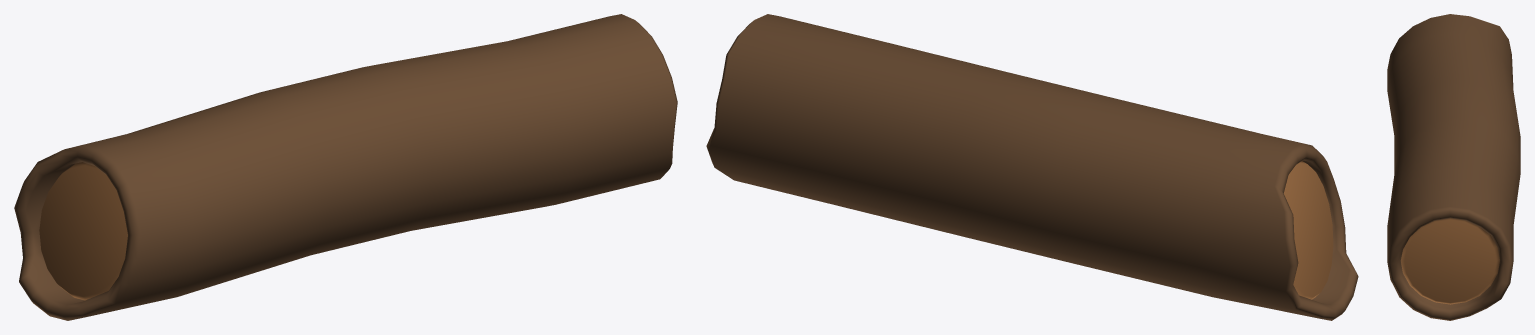
The model's file is Log_Seat.fbx.
The picture shows the model from 3 angles, left to right: view 1: azimuth 30°, elevation 25°; view 2: azimuth 150°, elevation 25°; view 3: azimuth 270°, elevation 25°; orthographic projection. The views are drawn at different scales.
Parts seen in each view (by area): view 1: Log; view 2: Log; view 3: Log.
Boxes of the visible parts, x1,y1,x2,y2 form: Log: [14, 14, 677, 320]; Log: [706, 14, 1358, 320]; Log: [1387, 14, 1520, 320].
Size of the model in its own units: 354 by 89.74 by 92.22.
